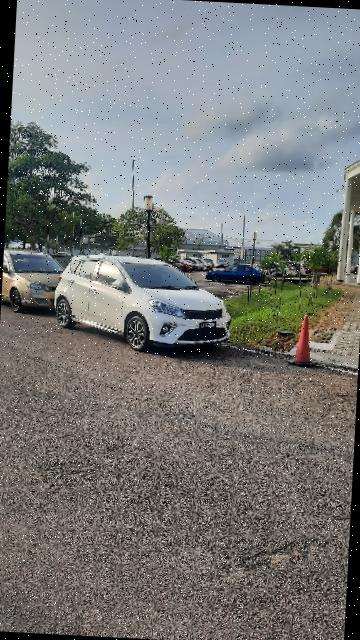License_Plate: (199, 321, 223, 333)
car: (51, 250, 239, 355), (2, 245, 75, 319)
